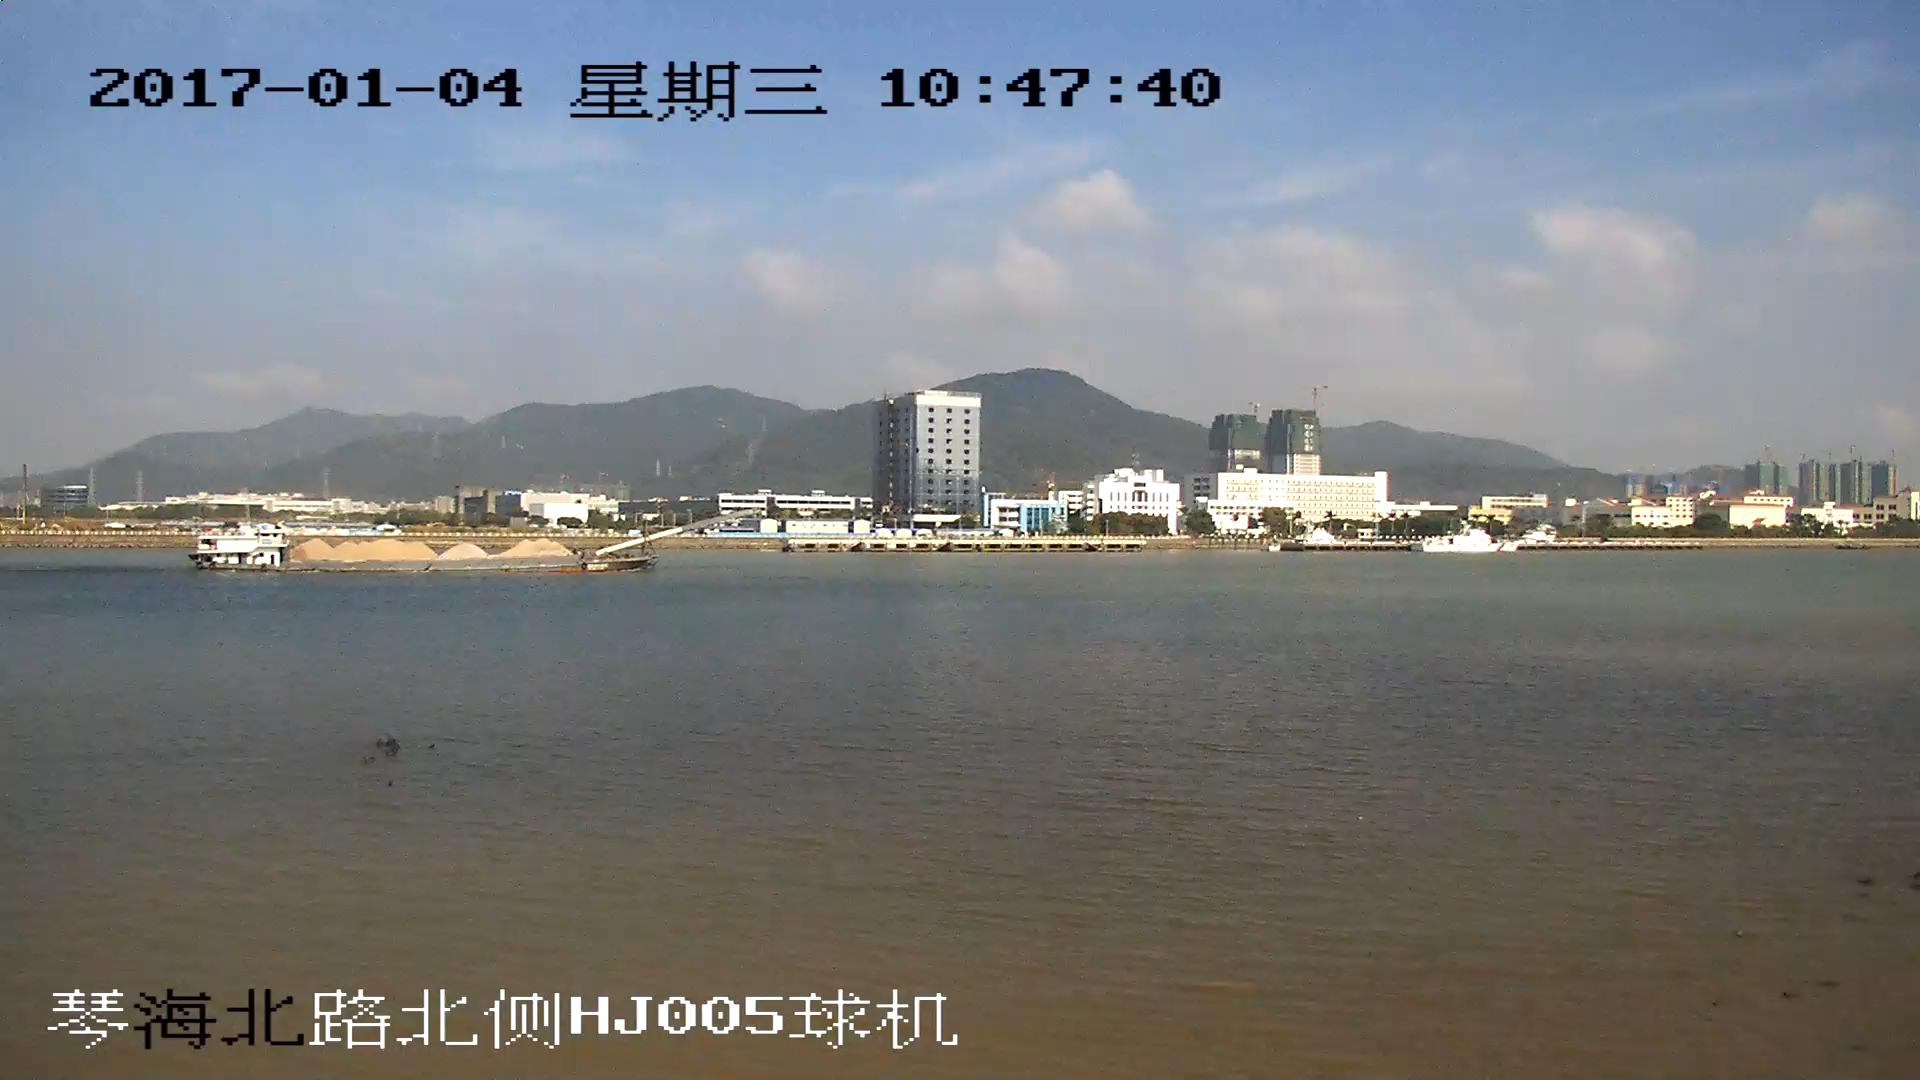ore carrier: (197, 506, 751, 575)
